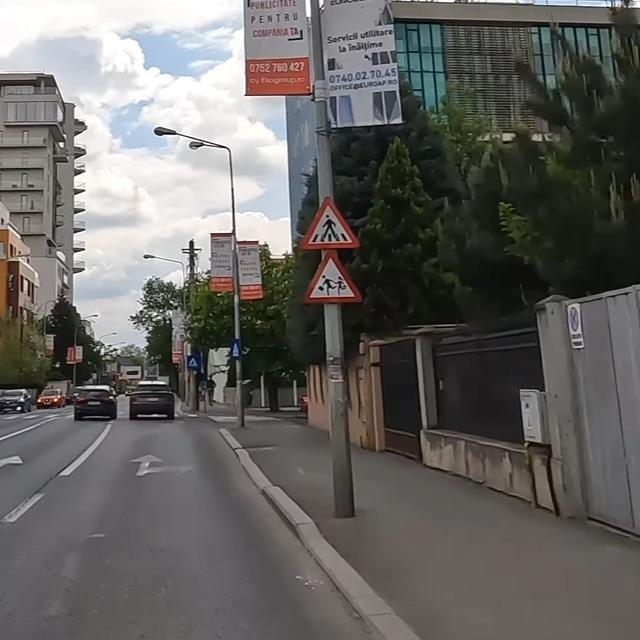warn_crosswalk: (298, 195, 360, 249)
